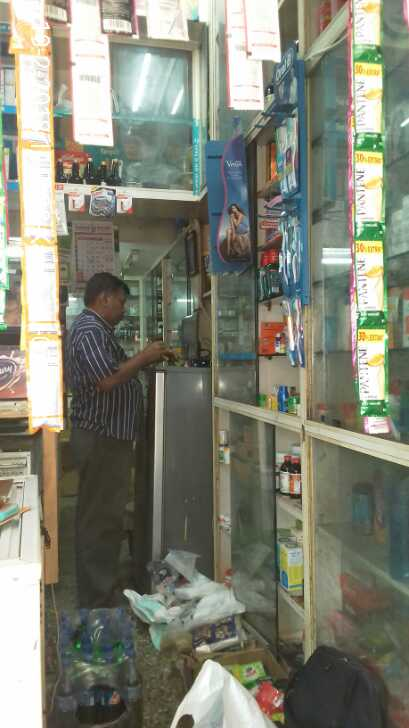beauty: (353, 318, 392, 415), (353, 57, 390, 151), (350, 151, 390, 231), (351, 237, 390, 319)
